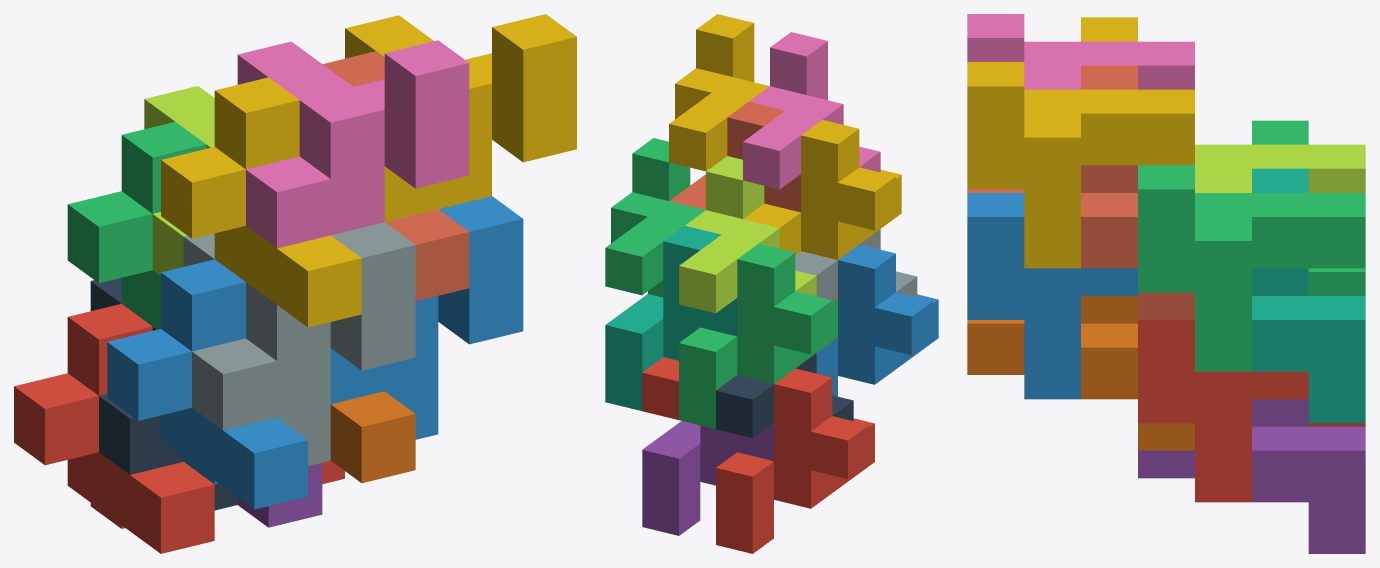
Rendered from tiling.obj.
3 renders of one model, left to right at view 1: azimuth 30°, elevation 25°; view 2: azimuth 150°, elevation 25°; view 3: azimuth 270°, elevation 25°, orthographic. The views are drawn at different scales.
Visible parts, largest first — view 1: copy_2_domain_4, copy_2_domain_2, copy_1_domain_2, copy_1_domain_4, copy_1_domain_1, copy_2_domain_8, copy_2_domain_6, copy_1_domain_3, copy_1_domain_6, copy_1_domain_8, copy_2_domain_1, copy_2_domain_3 (+1 smaller); view 2: copy_1_domain_1, copy_1_domain_3, copy_1_domain_4, copy_1_domain_2, copy_1_domain_7, copy_2_domain_8, copy_2_domain_4, copy_2_domain_7, copy_2_domain_3, copy_1_domain_5, copy_2_domain_1, copy_1_domain_8 (+2 smaller); view 3: copy_2_domain_8, copy_2_domain_7, copy_2_domain_6, copy_2_domain_5, copy_1_domain_5, copy_1_domain_7, copy_1_domain_6, copy_2_domain_4, copy_1_domain_8, copy_2_domain_3, copy_1_domain_3, copy_1_domain_4.
Part boxes in pixels (x1=…): copy_2_domain_4: x1=237, y1=40, x2=469, y2=248; copy_2_domain_2: x1=183, y1=222, x2=415, y2=465; copy_1_domain_2: x1=107, y1=259, x2=307, y2=509; copy_1_domain_4: x1=161, y1=77, x2=361, y2=327; copy_1_domain_1: x1=14, y1=304, x2=214, y2=553; copy_2_domain_8: x1=345, y1=14, x2=576, y2=221; copy_2_domain_6: x1=330, y1=196, x2=523, y2=439; copy_1_domain_3: x1=67, y1=121, x2=206, y2=329; copy_1_domain_6: x1=330, y1=391, x2=415, y2=483; copy_1_domain_8: x1=322, y1=51, x2=469, y2=300; copy_2_domain_1: x1=90, y1=278, x2=237, y2=510; copy_2_domain_3: x1=144, y1=86, x2=214, y2=275; copy_1_domain_1: x1=716, y1=368, x2=874, y2=553; copy_1_domain_3: x1=679, y1=243, x2=837, y2=428; copy_1_domain_4: x1=743, y1=120, x2=901, y2=259; copy_1_domain_2: x1=816, y1=244, x2=938, y2=396; copy_1_domain_7: x1=605, y1=226, x2=737, y2=410; copy_2_domain_8: x1=669, y1=14, x2=769, y2=171; copy_2_domain_4: x1=743, y1=32, x2=880, y2=189; copy_2_domain_7: x1=605, y1=138, x2=705, y2=297; copy_2_domain_3: x1=679, y1=156, x2=816, y2=313; copy_1_domain_5: x1=642, y1=421, x2=773, y2=535; copy_2_domain_1: x1=716, y1=353, x2=853, y2=437; copy_1_domain_8: x1=669, y1=102, x2=800, y2=212; copy_2_domain_8: x1=967, y1=62, x2=1194, y2=268; copy_2_domain_7: x1=1138, y1=165, x2=1365, y2=371; copy_2_domain_6: x1=967, y1=193, x2=1137, y2=399; copy_2_domain_5: x1=1138, y1=320, x2=1308, y2=502; copy_1_domain_5: x1=1138, y1=399, x2=1365, y2=553; copy_1_domain_7: x1=1252, y1=168, x2=1365, y2=423; copy_1_domain_6: x1=967, y1=296, x2=1194, y2=450; copy_2_domain_4: x1=967, y1=14, x2=1194, y2=89; copy_1_domain_8: x1=967, y1=65, x2=1194, y2=319; copy_2_domain_3: x1=1195, y1=144, x2=1365, y2=192; copy_1_domain_3: x1=1252, y1=120, x2=1365, y2=295; copy_1_domain_4: x1=1081, y1=17, x2=1137, y2=41.
Bounding box in the file's own units: 7 × 10 × 7.
